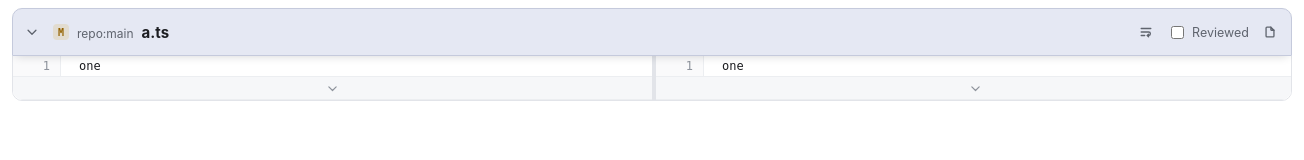
Test: DiffView › collapses the file when Reviewed is checked and expands it when unchecked
Step 1. Click the checkbox labelled "Reviewed" → click(1178, 32), box [1171,26,1184,38]
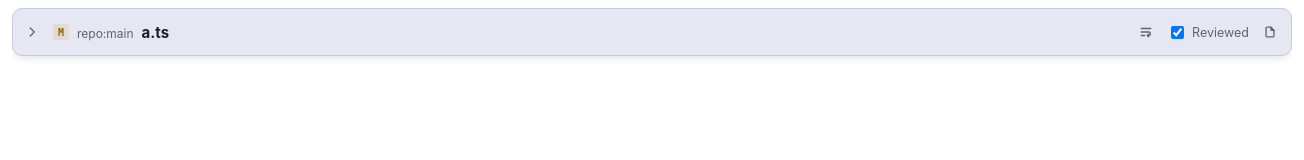
Check: the checkbox labelled "Reviewed" is checked
Check: no elements with class "diff-pane" are shown
Step 2. Click the checkbox labelled "Reviewed" → click(1178, 32), box [1171,26,1184,38]
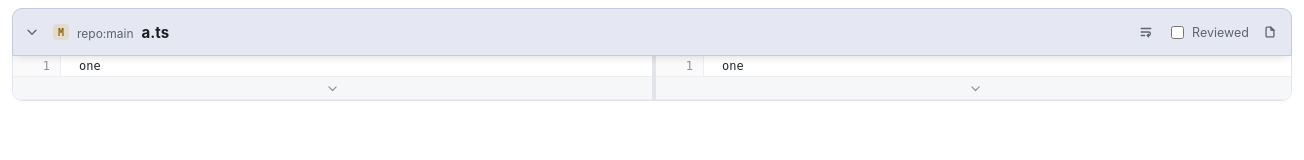
Check: the number of elements with class "diff-pane" is 2, box [13,56,652,100]; [656,56,1291,100]
